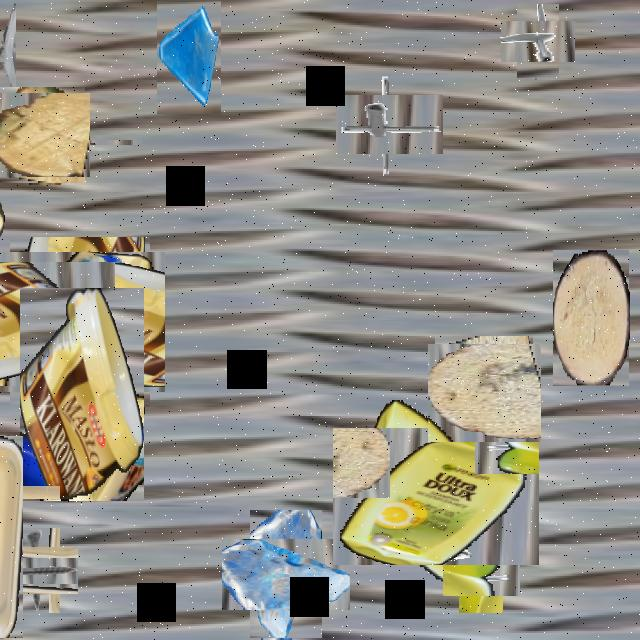glass: (236, 524, 336, 624), (157, 1, 221, 116), (0, 2, 16, 130)
metal: (348, 83, 432, 166), (3, 537, 69, 604), (358, 462, 422, 526), (451, 544, 512, 604), (509, 12, 567, 70), (0, 462, 37, 522)
plastic: (350, 410, 522, 582), (20, 288, 144, 501), (2, 244, 158, 400), (0, 70, 74, 213), (0, 436, 23, 638)
wood: (431, 340, 537, 446), (553, 250, 629, 386), (0, 89, 87, 180)
